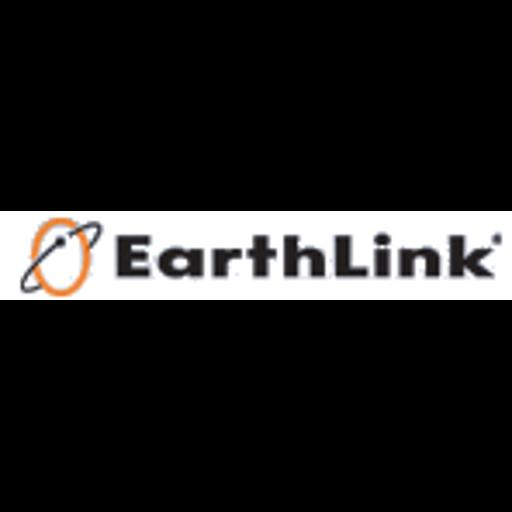EarthLink: (0, 211, 512, 300)
